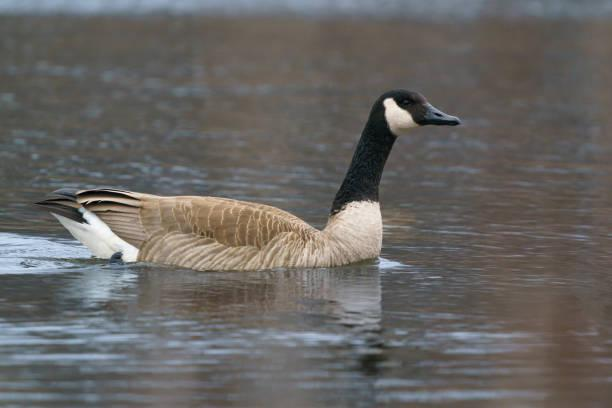Canadian-Goose: (30, 82, 461, 270)
